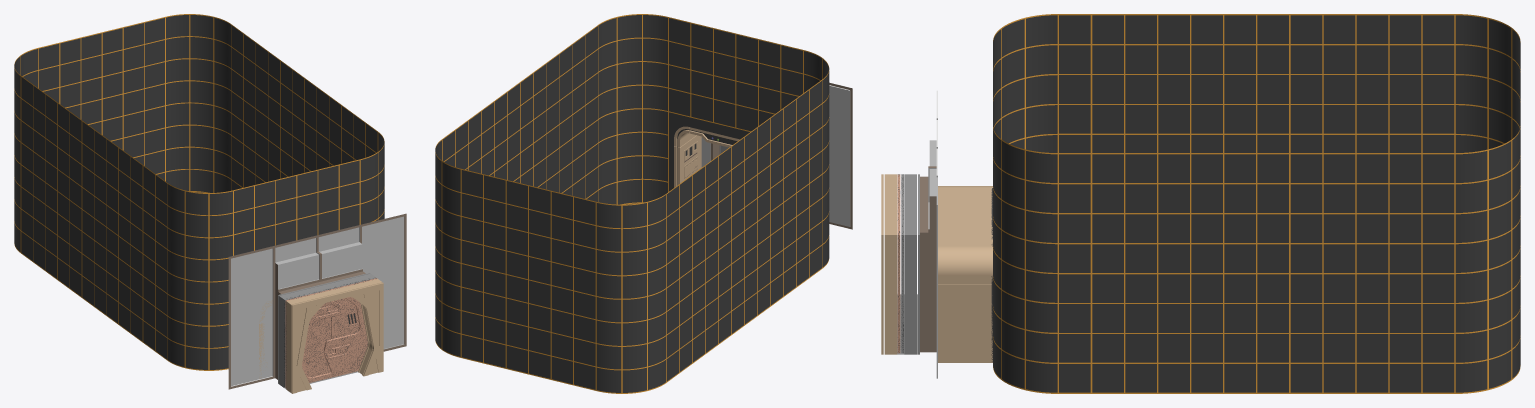
File: tng-holodeck-cc-by-nc-4.0-redgeneral.dae
The picture shows the model from 3 angles, left to right: view 1: azimuth 30°, elevation 25°; view 2: azimuth 150°, elevation 25°; view 3: azimuth 270°, elevation 25°; orthographic projection. The views are drawn at different scales.
Visible parts, largest first — view 1: grid_Z_002 (×97), door_surround (×5), archway_half (×3), left_door_half, cargo_arch (×2), right_door_half; view 2: grid_Z_002 (×127), door_surround (×2), holoarch_v3_-_with_panels (×2); view 3: grid_Z_002 (×205), holoarch_v3_-_with_panels, cargo_arch (×2), door_surround, left_door_half.
Boxes of the visible parts, x1,y1,x2,y2 form: grid_Z_002 (×97): [14, 14, 384, 370]; door_surround (×5): [228, 213, 406, 389]; archway_half (×3): [291, 282, 383, 393]; left_door_half: [324, 278, 377, 377]; cargo_arch (×2): [279, 273, 382, 392]; right_door_half: [285, 289, 342, 388]; grid_Z_002 (×127): [435, 14, 829, 393]; door_surround (×2): [710, 82, 852, 229]; holoarch_v3_-_with_panels (×2): [674, 126, 739, 187]; grid_Z_002 (×205): [993, 14, 1520, 393]; holoarch_v3_-_with_panels: [938, 186, 992, 362]; cargo_arch (×2): [884, 174, 916, 354]; door_surround: [920, 166, 936, 352]; left_door_half: [897, 204, 900, 353].
Bounding box in the file's own units: 239 × 464 × 193.
